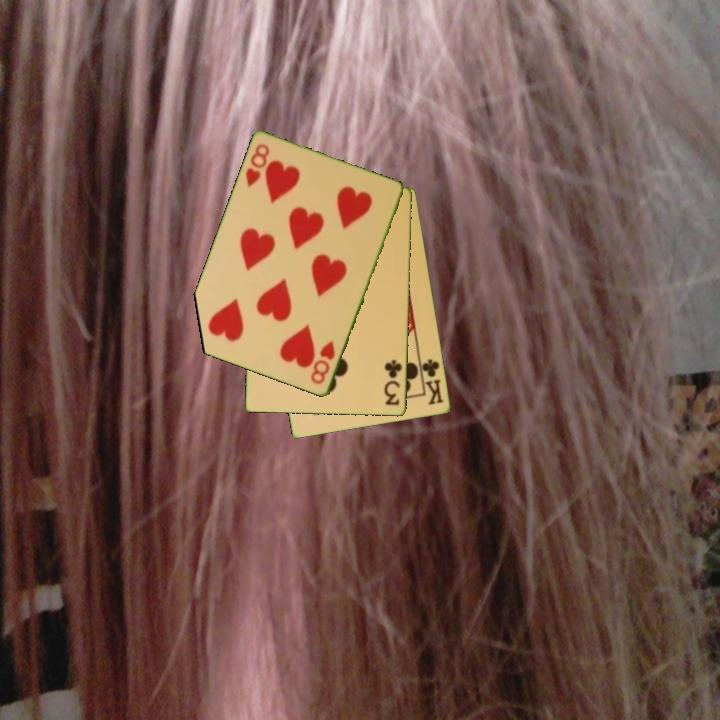3c: (381, 357, 405, 408)
8h: (307, 338, 338, 388), (242, 141, 273, 191)
Kc: (416, 355, 447, 408)
